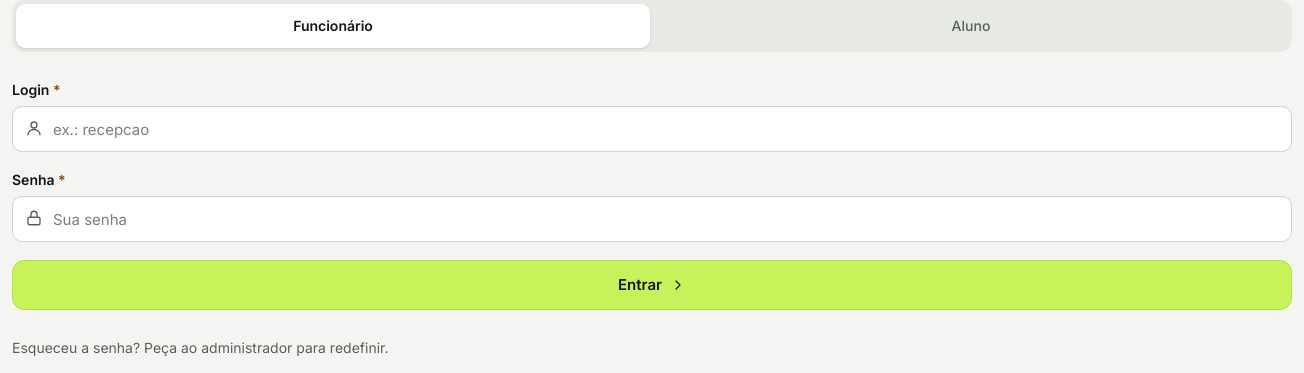
Test: FormLogin › desabilita o botão enquanto envia
Type "maria01" into the field labelled "Login" at (652, 129), box x1=12 y1=106 x2=1292 y2=152
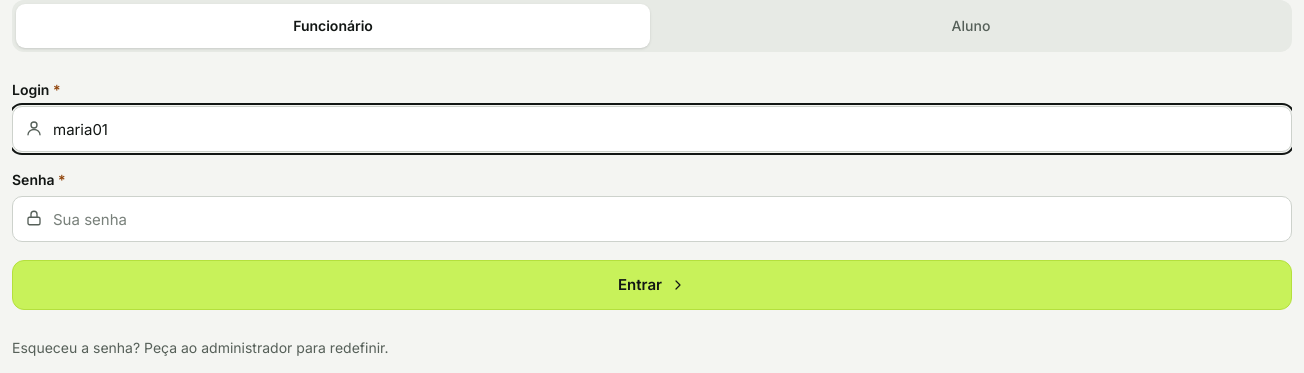
Type "senha1234" into the password field labelled "Senha" at (652, 219), box x1=12 y1=196 x2=1292 y2=242
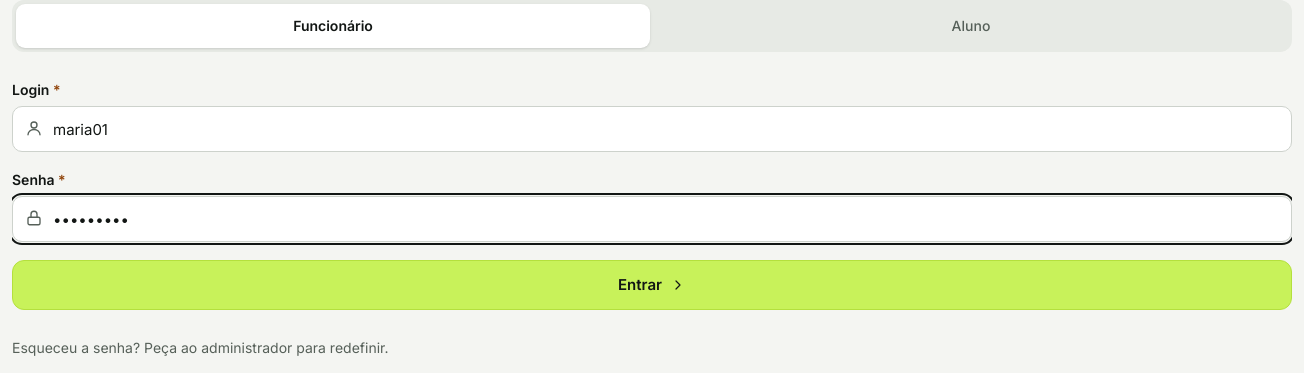
Click the button "Entrar" at (652, 285), box x1=12 y1=260 x2=1292 y2=310
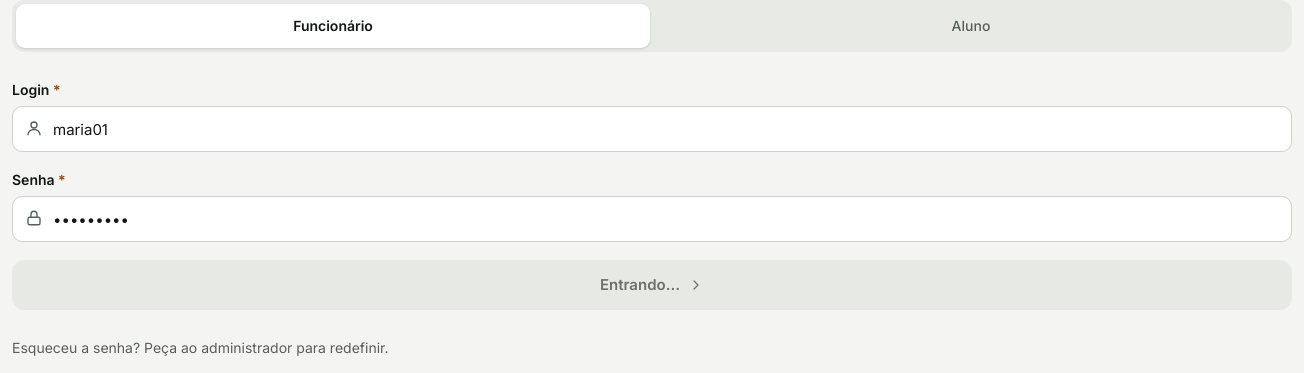
Expected: the tab "Aluno" is disabled, x1=654 y1=4 x2=1288 y2=48
Expected: the button "Entrando…" is disabled, x1=12 y1=260 x2=1292 y2=310
